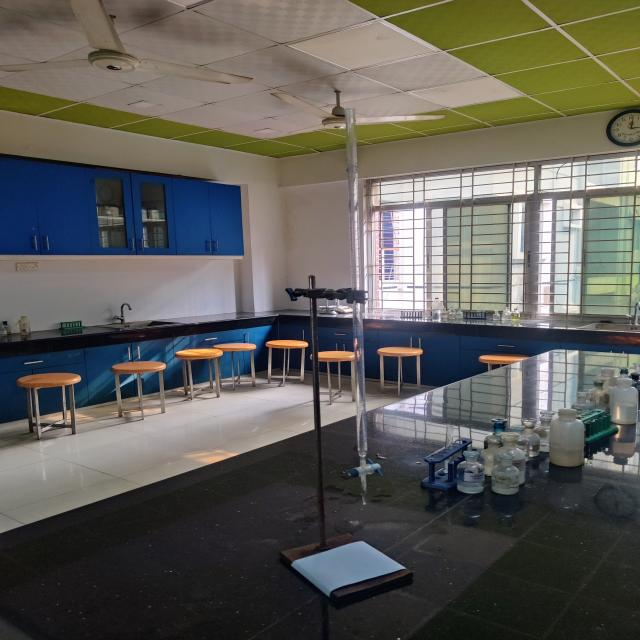Burette_Stands: (237, 261, 424, 624)
